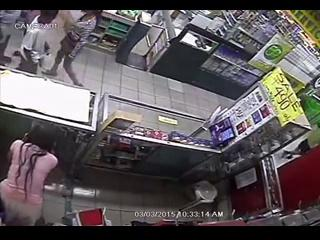Normal: (42, 10, 102, 87)
